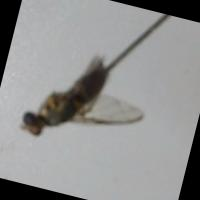Oriental-fruit-fly: (0, 33, 157, 178)
